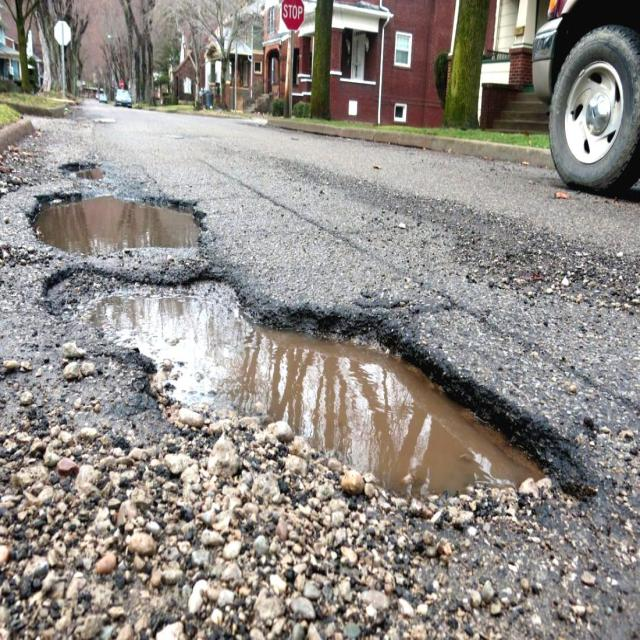pothole: (32, 259, 582, 523), (24, 188, 212, 258)
